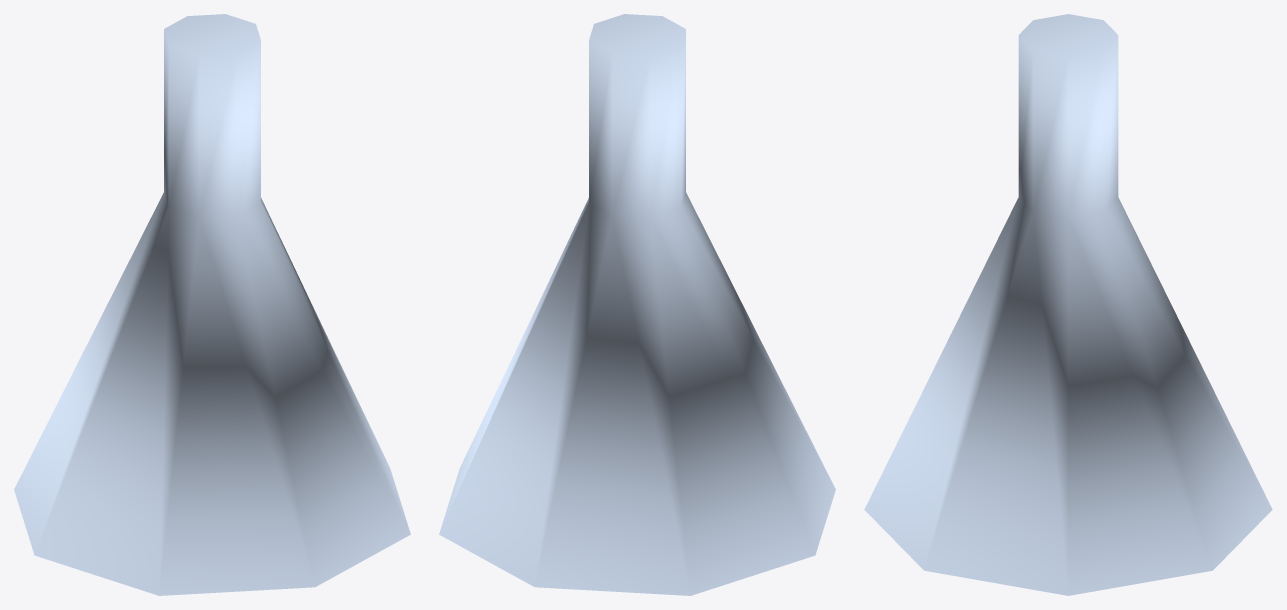
File: fiole_S1.fbx
3 views of the same model, side by side, from view 1: azimuth 30°, elevation 25°; view 2: azimuth 150°, elevation 25°; view 3: azimuth 270°, elevation 25° (orthographic).
Parts seen in each view (by area): view 1: Cylinder; view 2: Cylinder; view 3: Cylinder.
Boxes of the visible parts, left/top/right/bottom form: Cylinder: left=14, top=14, right=410, bottom=595; Cylinder: left=439, top=14, right=835, bottom=595; Cylinder: left=864, top=14, right=1272, bottom=595.
Bounding box in the file's own units: 59.92 × 76.85 × 59.92.
